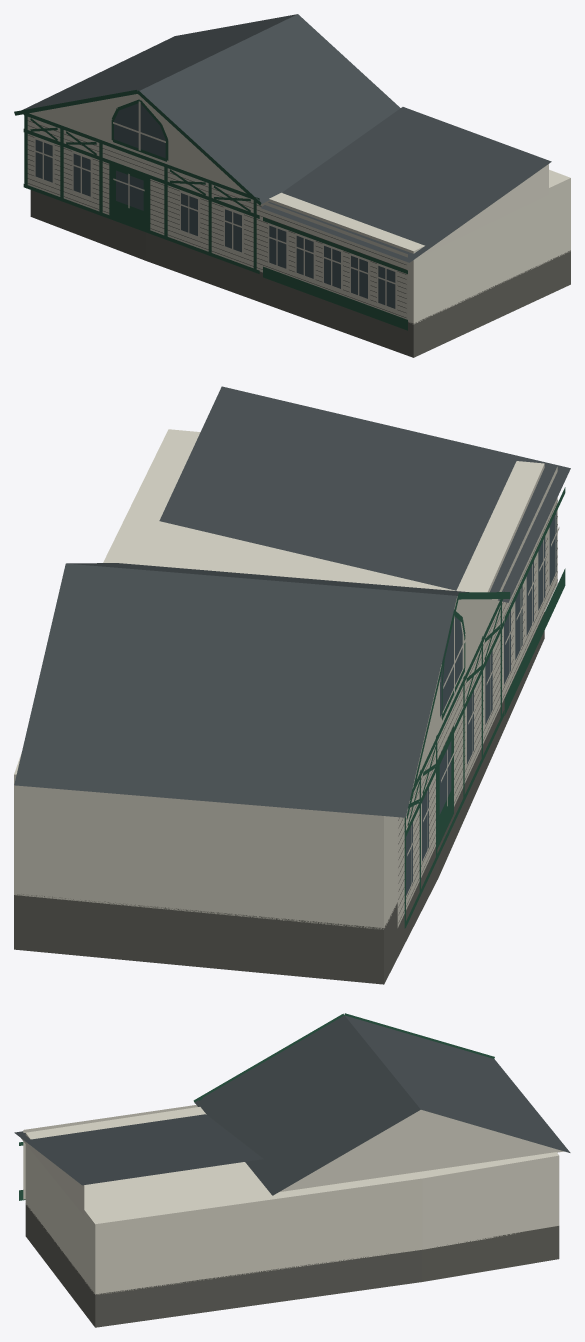
The model's file is ambleside-pier.glb.
3 views of the same model, one above another, from view 1: azimuth 30°, elevation 25°; view 2: azimuth 150°, elevation 25°; view 3: azimuth 270°, elevation 25° (orthographic). The views are drawn at different scales.
Visible parts, largest first — view 1: Ambleside Pier booking office; view 2: Ambleside Pier booking office; view 3: Ambleside Pier booking office.
Part boxes in pixels (x1,y1,x2,y2): Ambleside Pier booking office: (14, 14, 570, 357); Ambleside Pier booking office: (14, 386, 570, 984); Ambleside Pier booking office: (14, 1013, 570, 1327).
Size of the model in its own units: 15.26 by 7.27 by 21.6.
